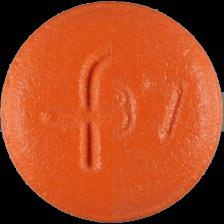42291-348: (0, 0, 224, 224)
